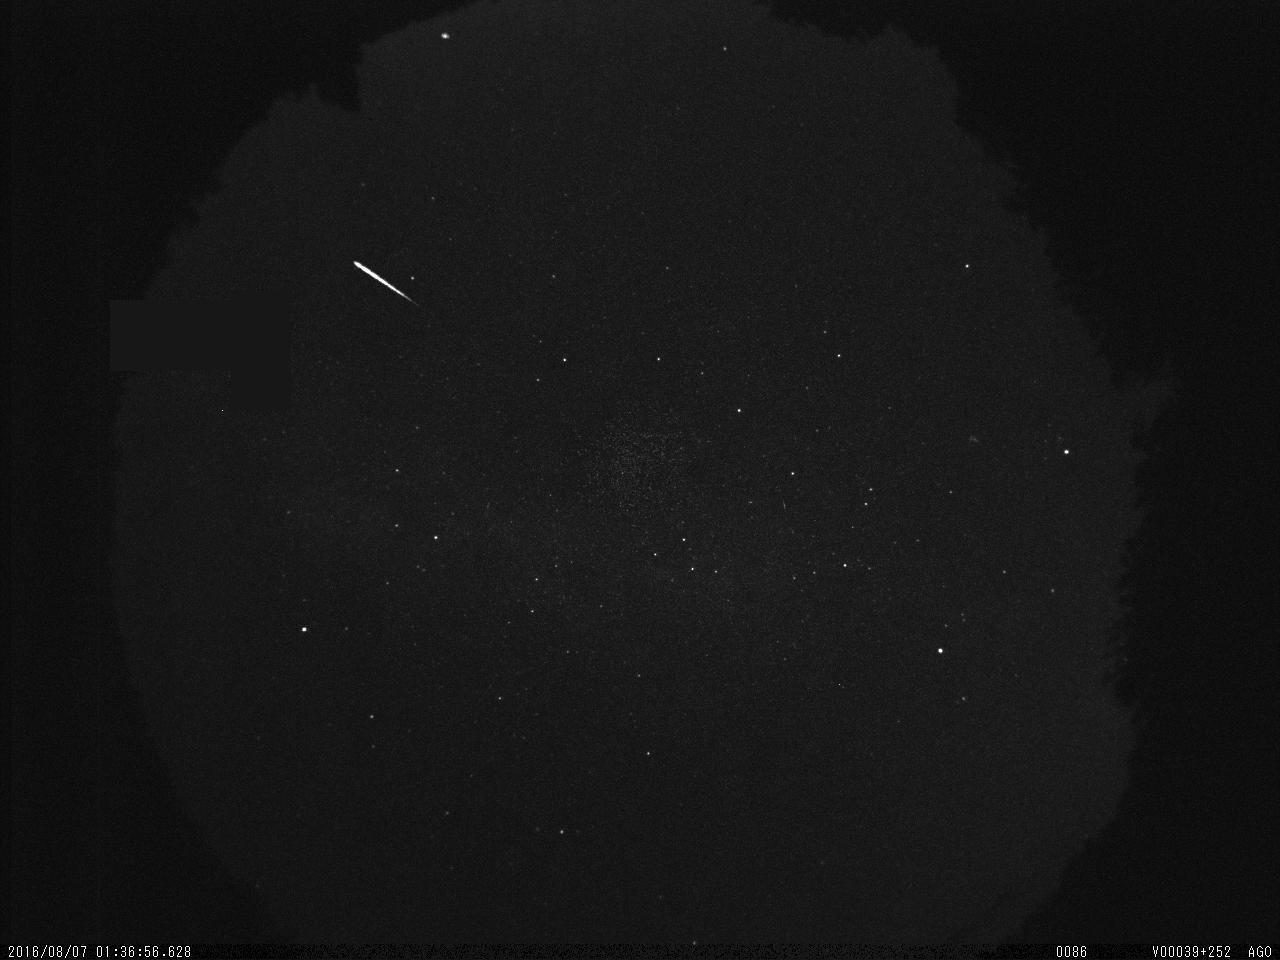meteor: (335, 242, 433, 315)
